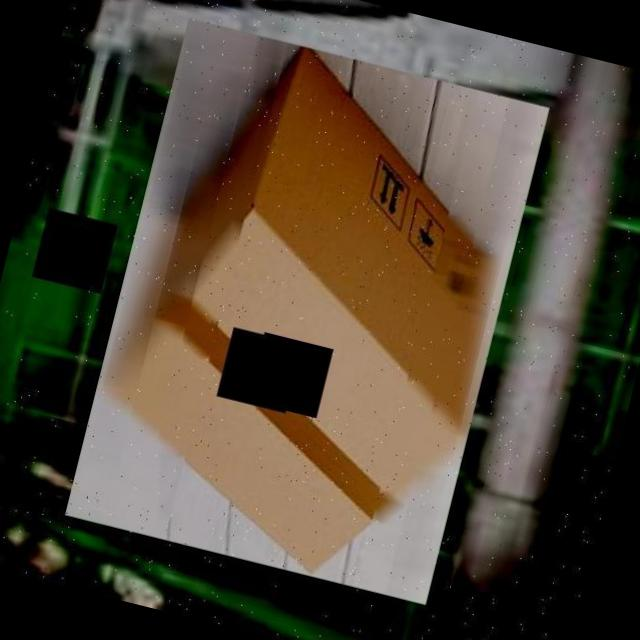box: (58, 8, 556, 613)
